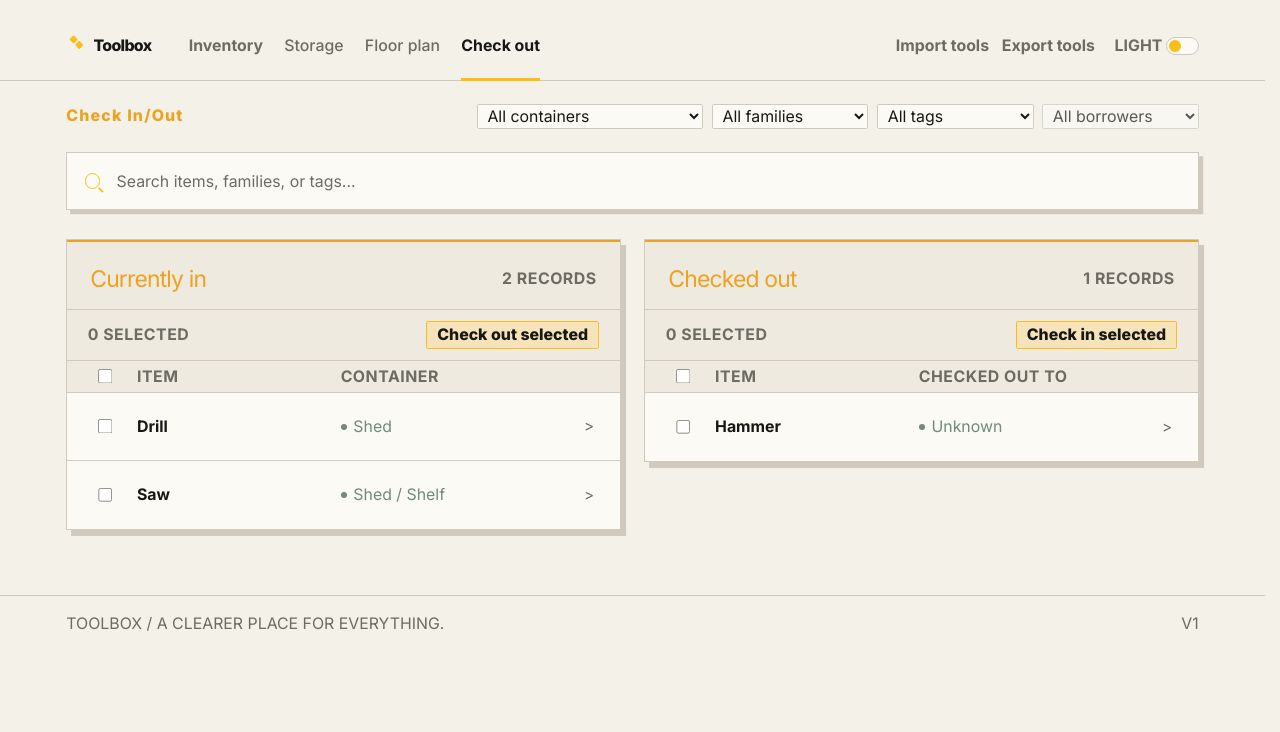
Test case: checkout page › filters both checkout panels by a container and its descendants
Expected: the text "Drill" is shown, [137,417,168,436]
Select "Shed / Shelf" in the dropdown named "Filter by container": (590, 117) [477,104,703,129]
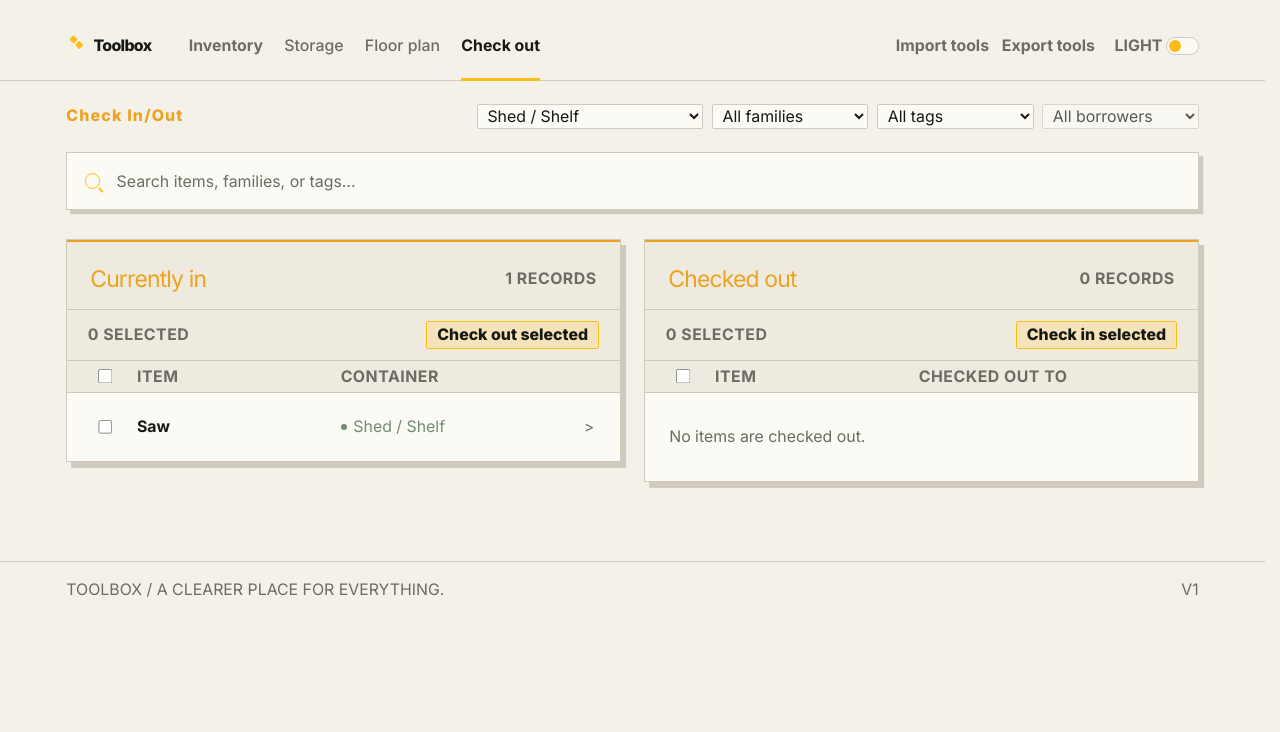
Expected: the text "Saw" is shown, [137,417,170,436]
Result: the button "Drill" is gone
Result: the button "Hammer" is gone
Select "Shed" in the dropdown named "Filter by container": (590, 117) [477,104,703,129]
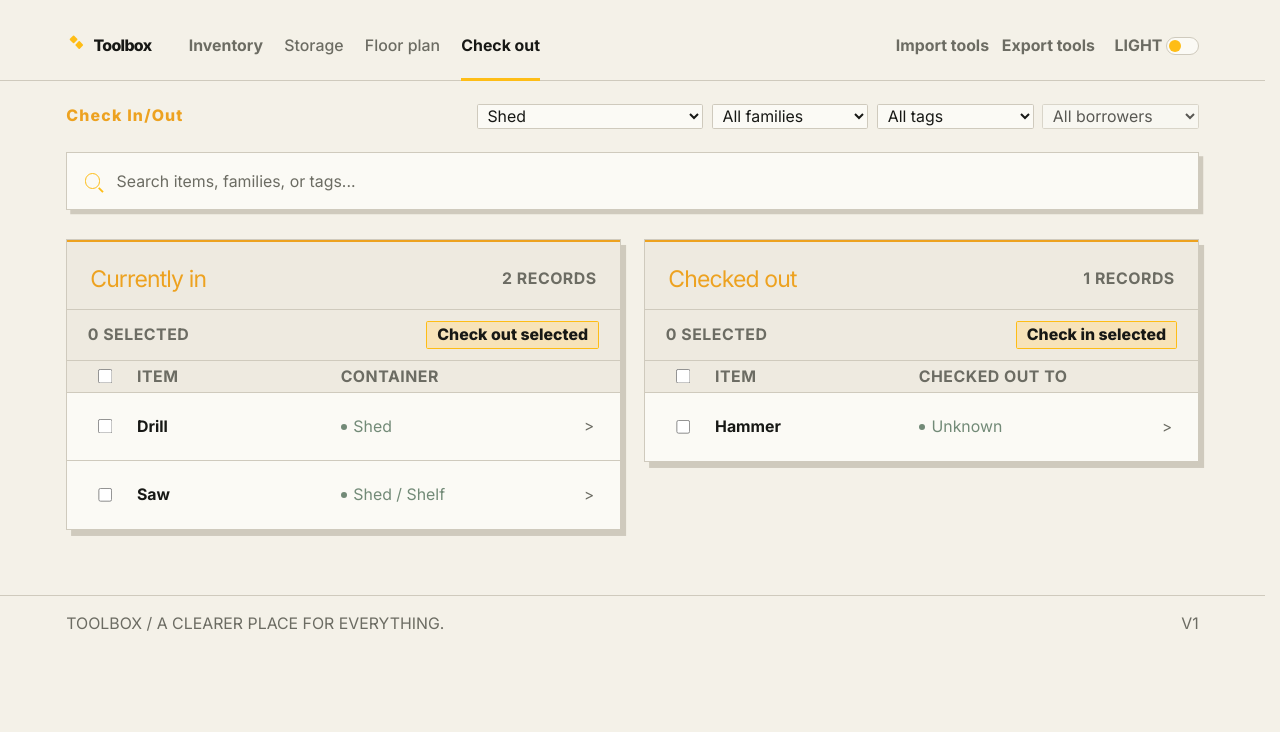
Expected: the text "Saw" is shown, [137,485,170,504]
Result: the text "Drill" is shown at [137,417,168,436]
Result: the text "Hammer" is shown at [715,417,781,436]
